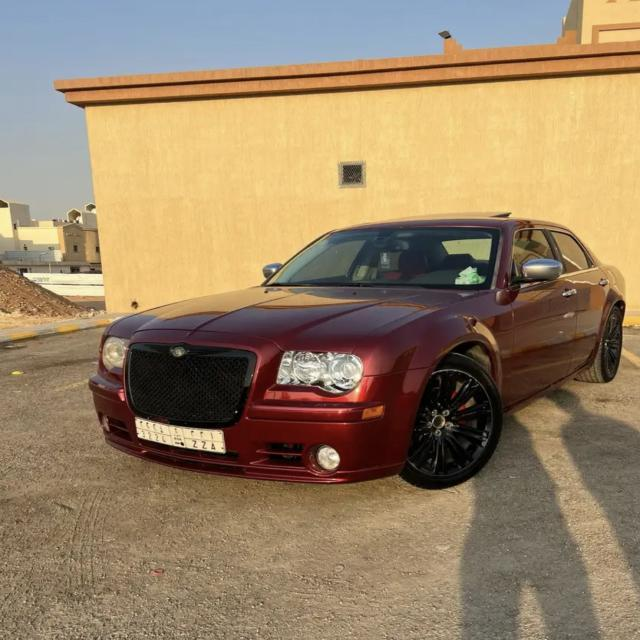license_plate: (134, 416, 225, 456)
